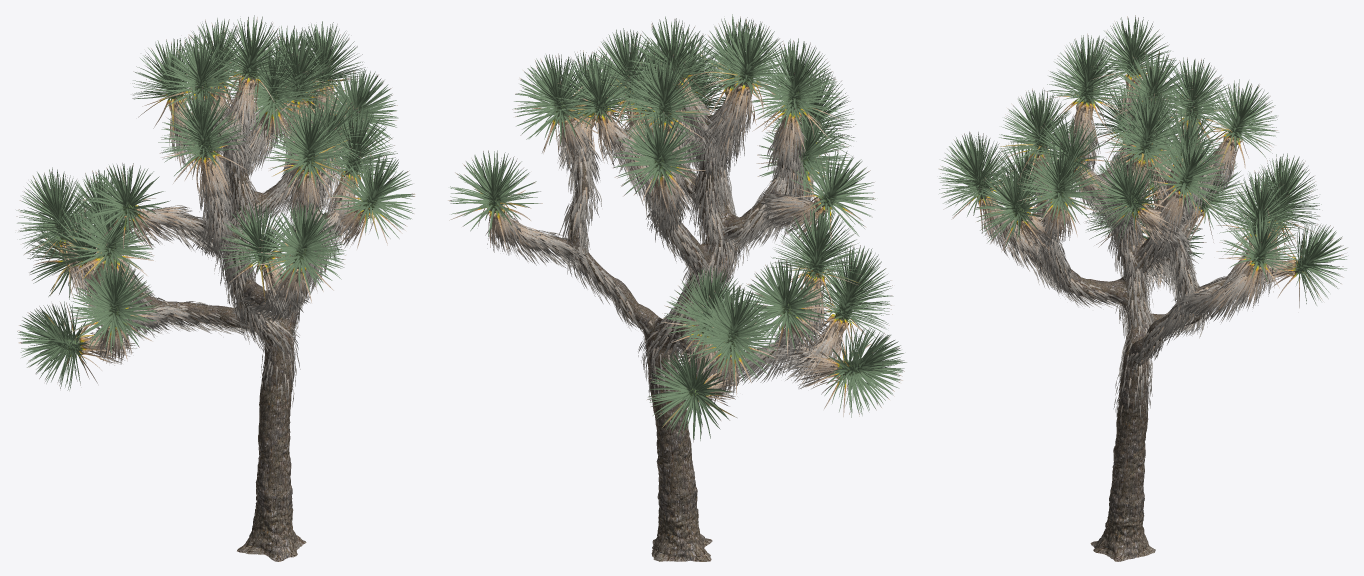
The model's file is joshua.glb.
3 renders of one model, left to right at view 1: azimuth 30°, elevation 25°; view 2: azimuth 150°, elevation 25°; view 3: azimuth 270°, elevation 25°, orthographic. The views are drawn at different scales.
Parts seen in each view (by area): view 1: Yucca_brevifolia_HD, Yucca_brevifolia_HD_Yucca brev leaf 01_0.001, Yucca_brevifolia_HD_Yucca brev leaf 02b_0.001; view 2: Yucca_brevifolia_HD, Yucca_brevifolia_HD_Yucca brev leaf 02b_0.001, Yucca_brevifolia_HD_Yucca brev leaf 01_0.001; view 3: Yucca_brevifolia_HD, Yucca_brevifolia_HD_Yucca brev leaf 02b_0.001, Yucca_brevifolia_HD_Yucca brev leaf 01_0.001.
Part boxes in pixels (x1,y1,x2,y2): Yucca_brevifolia_HD: [16, 18, 415, 561]; Yucca_brevifolia_HD_Yucca brev leaf 01_0.001: [17, 15, 359, 390]; Yucca_brevifolia_HD_Yucca brev leaf 02b_0.001: [56, 69, 346, 406]; Yucca_brevifolia_HD: [448, 19, 875, 561]; Yucca_brevifolia_HD_Yucca brev leaf 02b_0.001: [488, 74, 871, 416]; Yucca_brevifolia_HD_Yucca brev leaf 01_0.001: [553, 14, 906, 417]; Yucca_brevifolia_HD: [938, 15, 1347, 561]; Yucca_brevifolia_HD_Yucca brev leaf 02b_0.001: [1001, 71, 1264, 424]; Yucca_brevifolia_HD_Yucca brev leaf 01_0.001: [999, 50, 1234, 277].
Size of the model in its own units: 2.32 by 3.06 by 2.3.
Materials: 6 (6 with a texture image).
